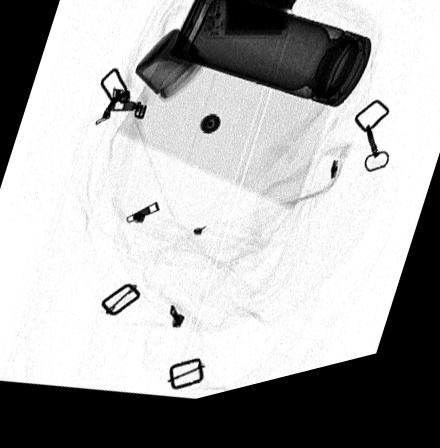Powerbank: (205, 0, 293, 53)
